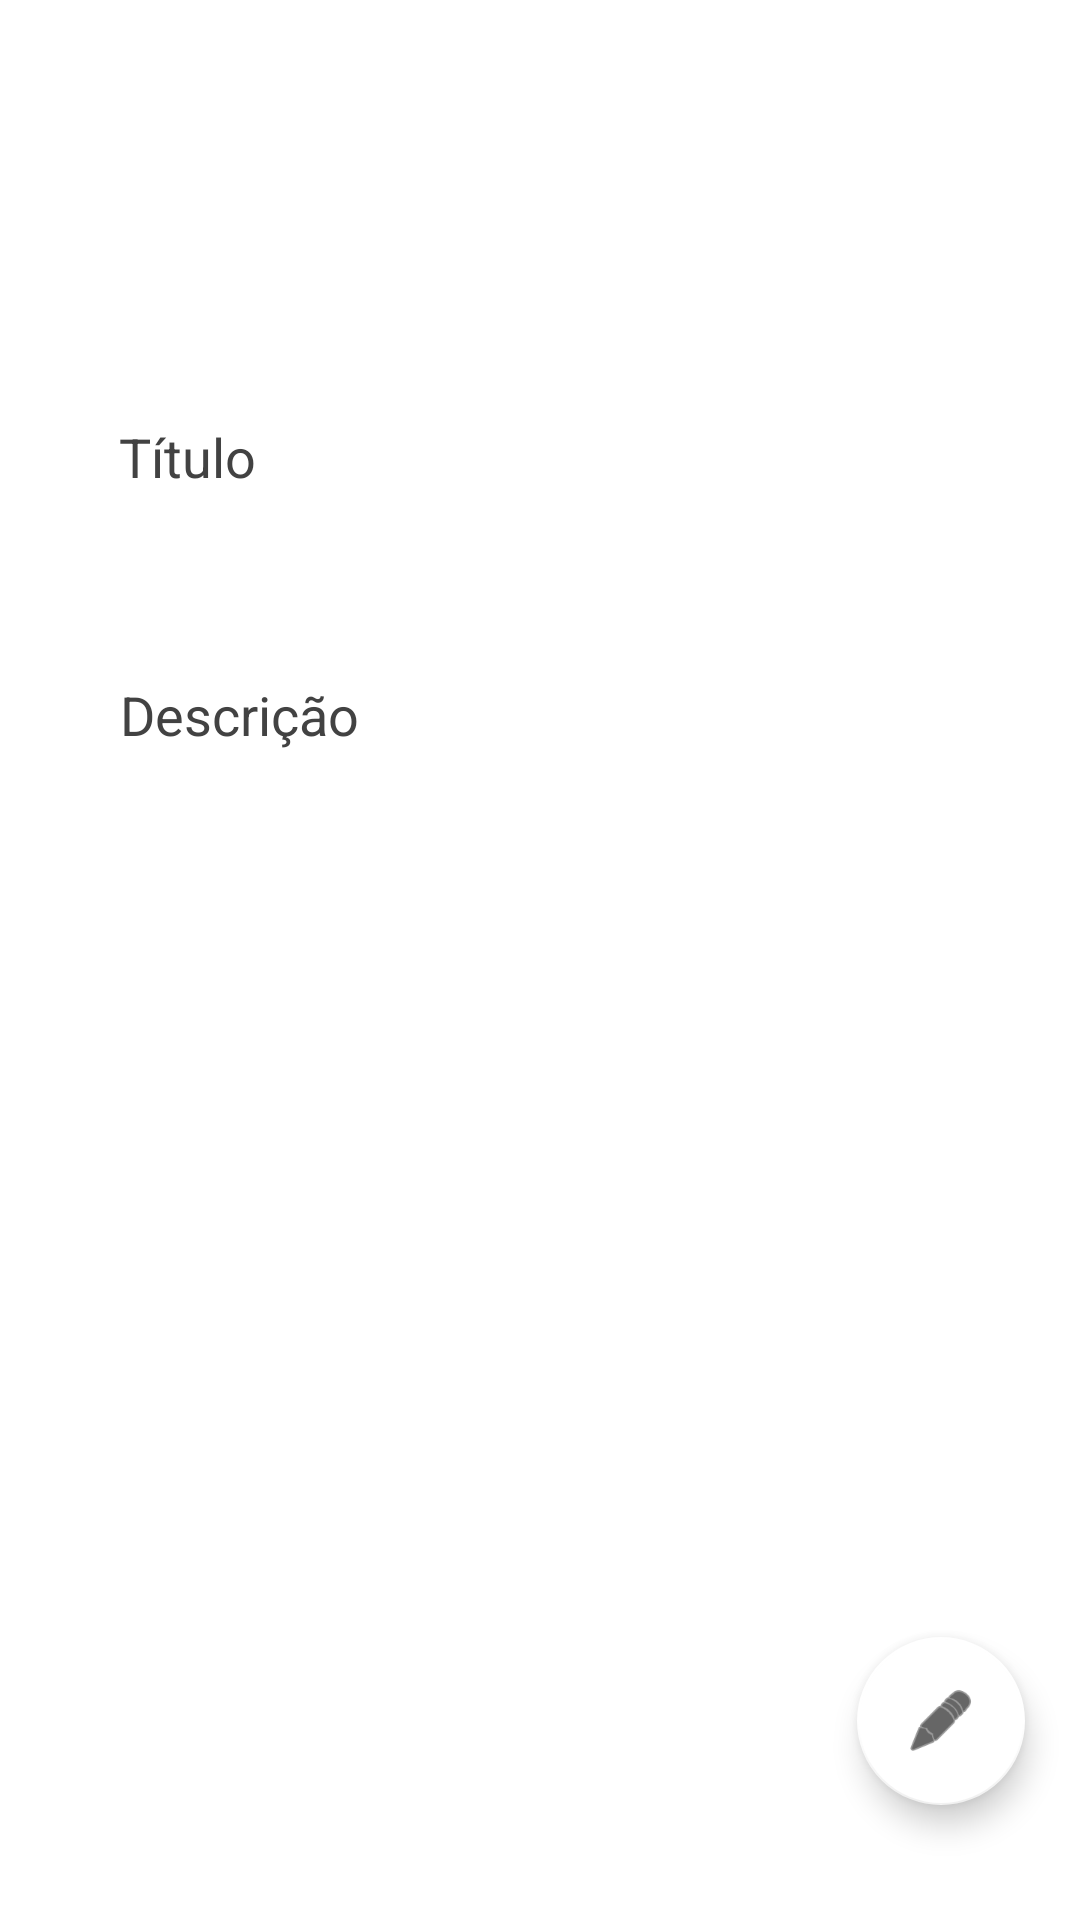

Screen size 1080px x 1920px. Icon name, then its center in pixels as [x,y]:
edit: [916,1722]
